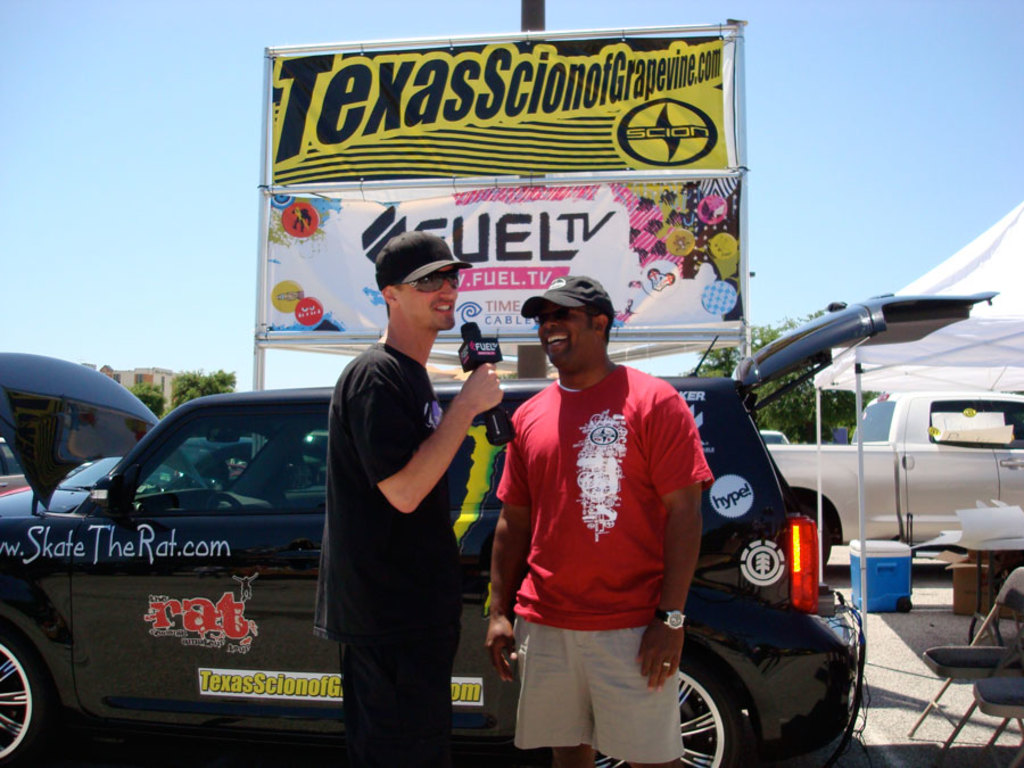Car: (0, 291, 997, 766)
